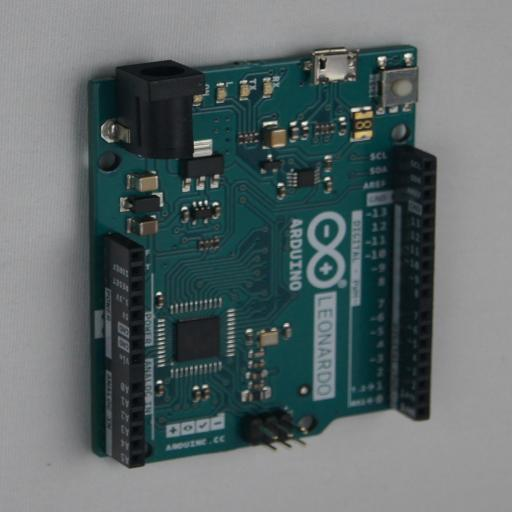Arduino Leonardo: (75, 45, 436, 468)
